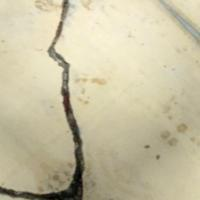crack: (21, 0, 109, 199)
